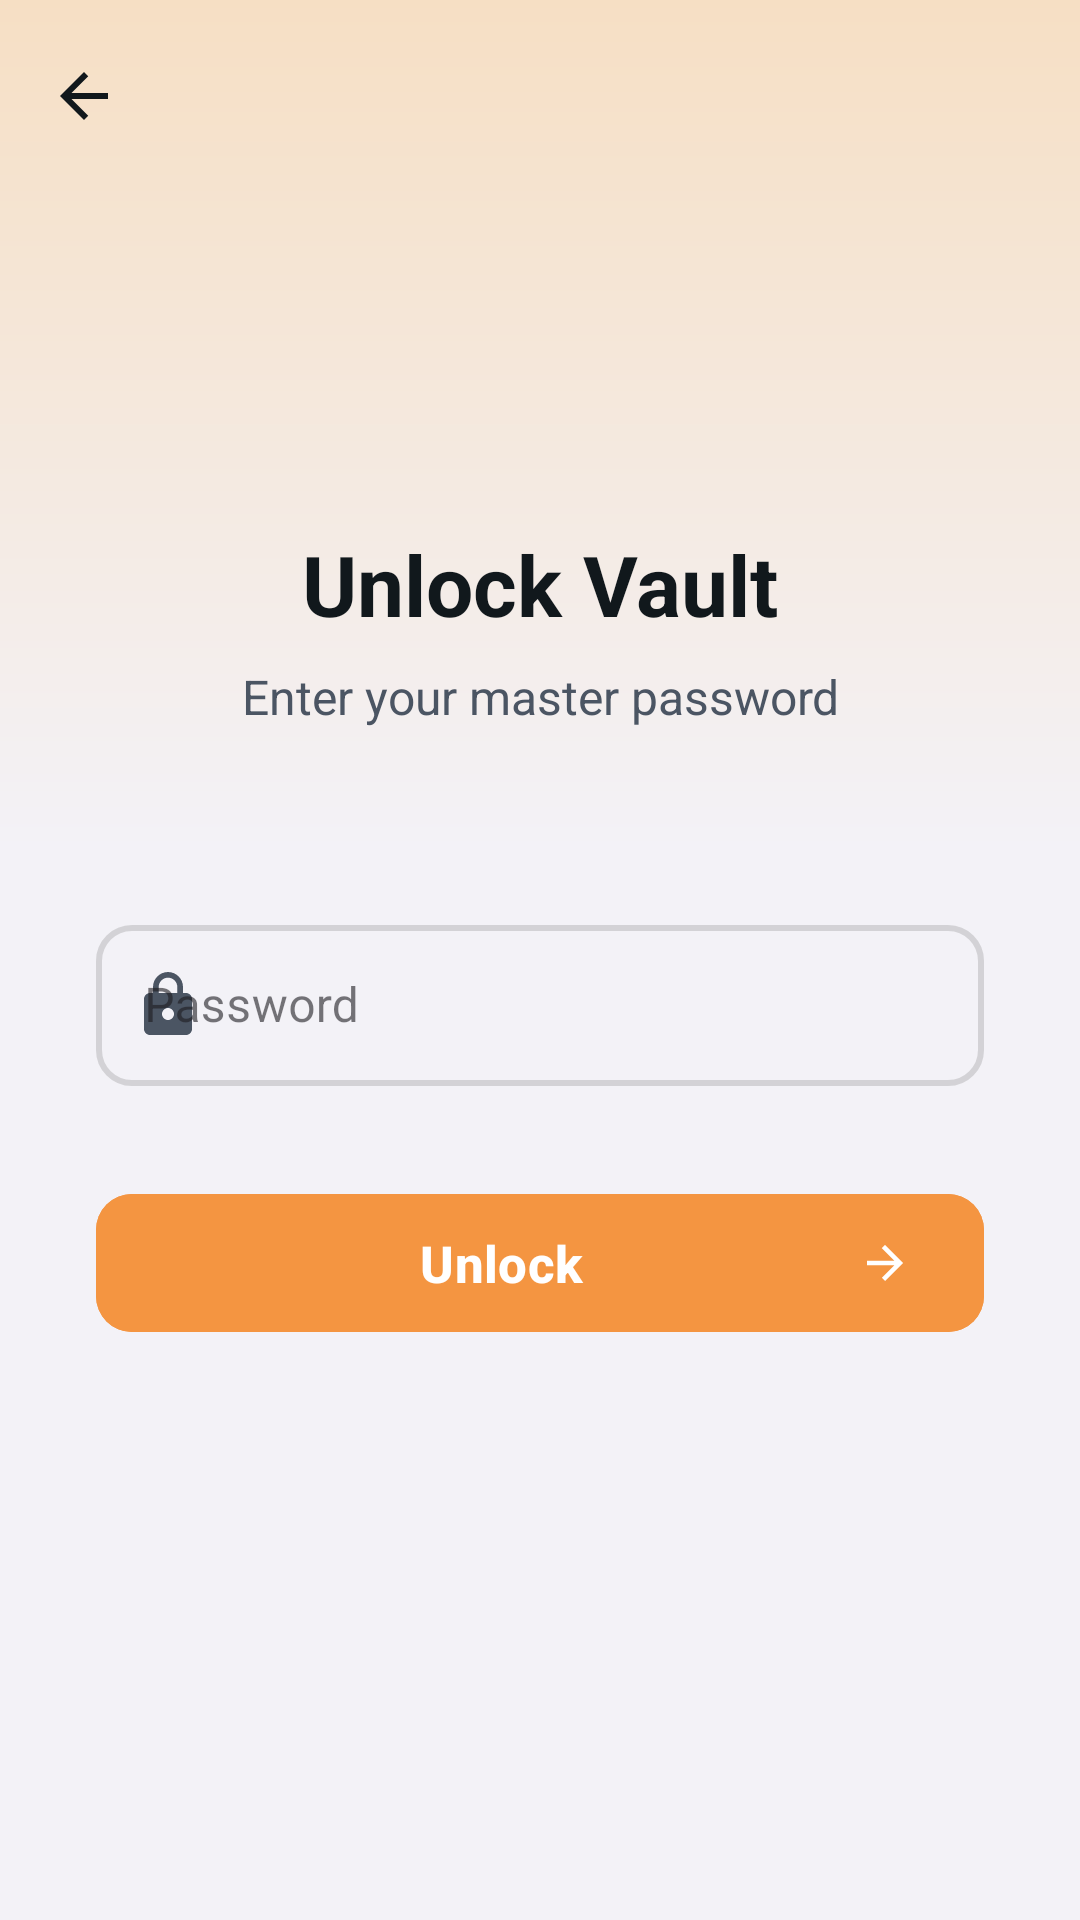

Where to tap for icons on this 1080px×1920px app screen, as (x=x, y=y):
Back: (x=84, y=96)
